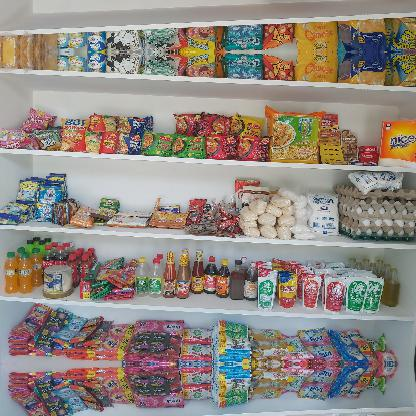Lady-s-Choice: (40, 263, 76, 299)
